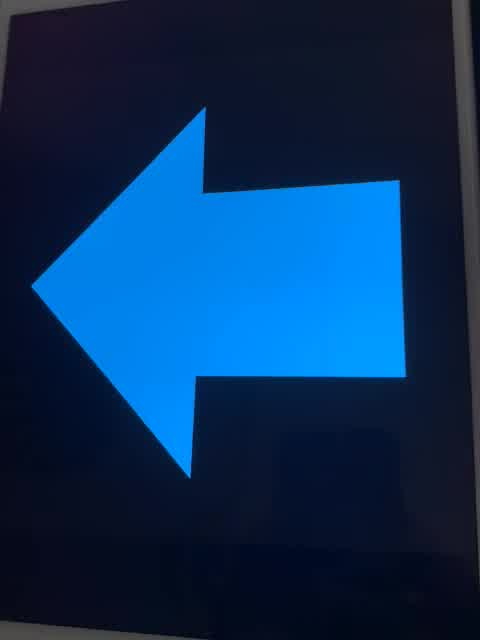left: (23, 100, 409, 485)
